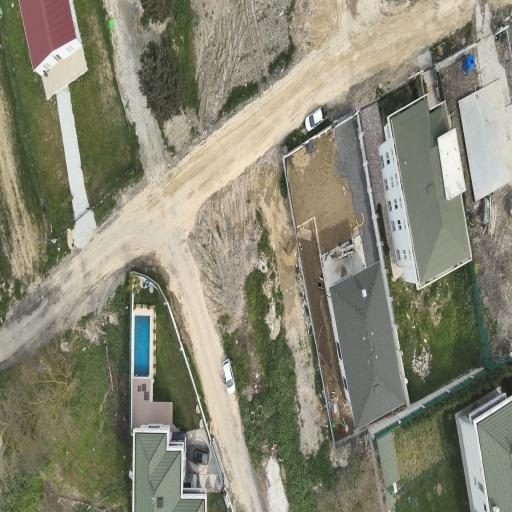car: (304, 108, 322, 131), (222, 359, 234, 393), (192, 448, 207, 464)
